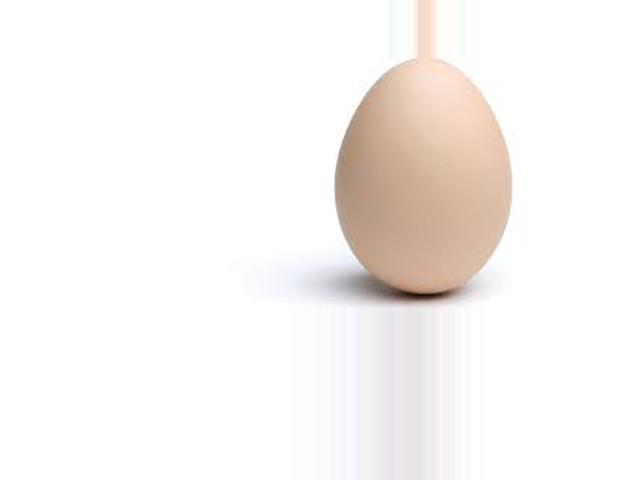egg: (335, 58, 512, 297)
